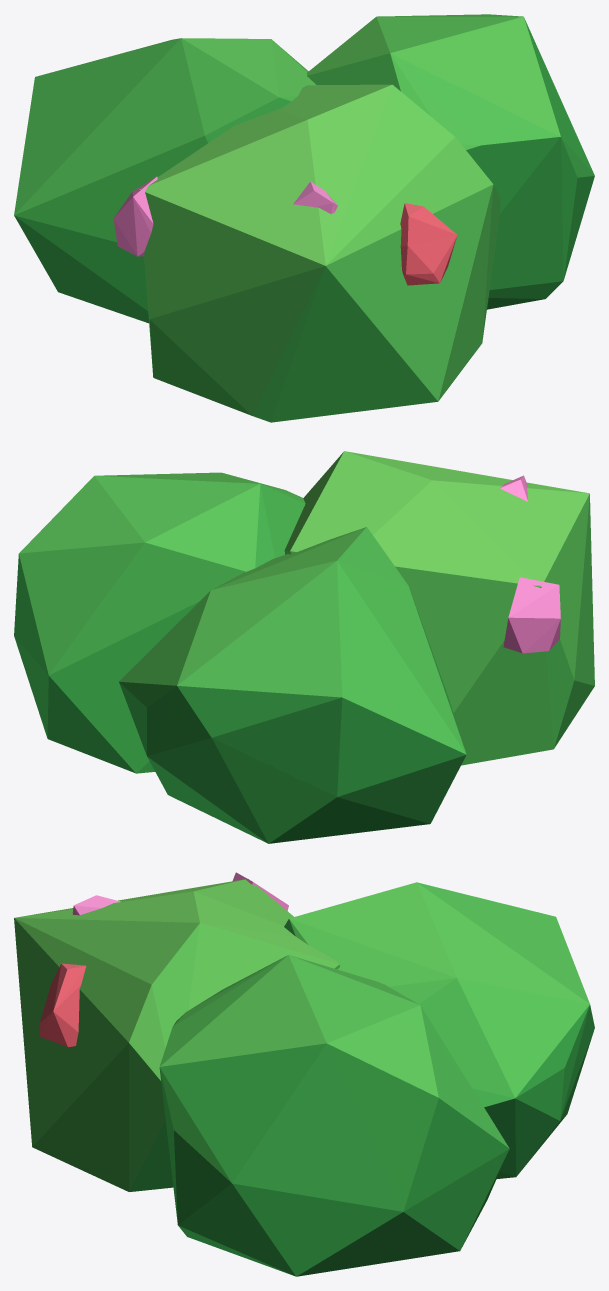
Rendered from Bush_1.glb.
The picture shows the model from 3 angles, top to bottom: view 1: azimuth 30°, elevation 25°; view 2: azimuth 150°, elevation 25°; view 3: azimuth 270°, elevation 25°; orthographic projection. The views are drawn at different scales.
Visible parts, largest first — view 1: Bush_1; view 2: Bush_1; view 3: Bush_1.
Part boxes in pixels (x1,y1,x2,y2): Bush_1: (14, 14, 594, 422); Bush_1: (14, 451, 594, 843); Bush_1: (14, 872, 594, 1276).
Bounding box in the file's own units: 5.5 × 2.62 × 5.68.
1 material, 1 textured.
